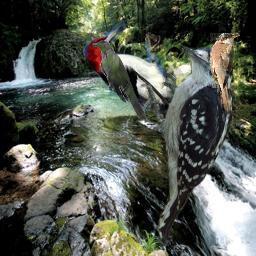Cuckoo: (92, 40, 149, 121), (210, 33, 240, 115)
Woodpecker: (138, 43, 246, 246), (70, 20, 215, 129)
